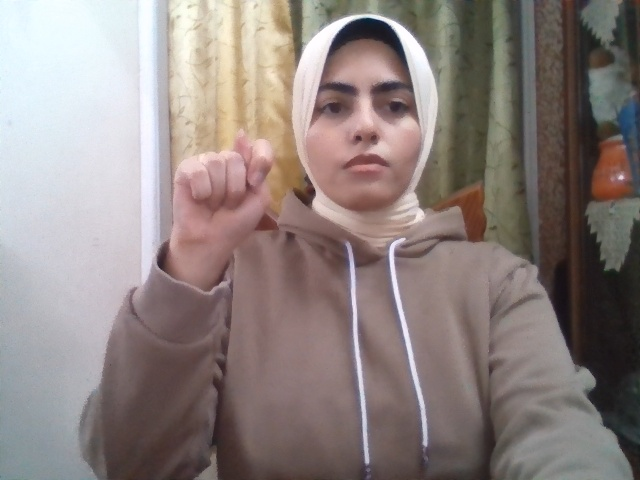T: (172, 130, 274, 247)
